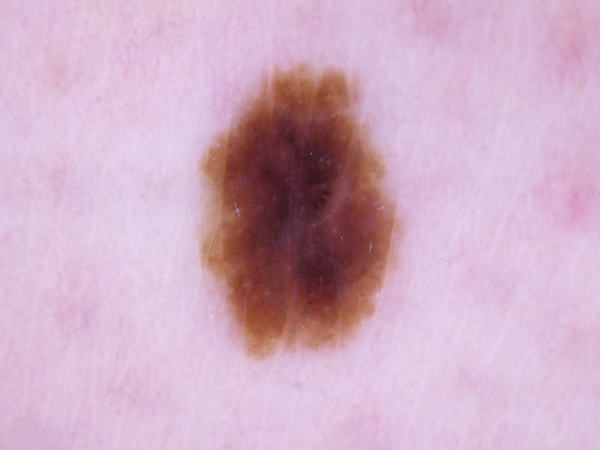Detected Lesion: (195, 54, 401, 364)
